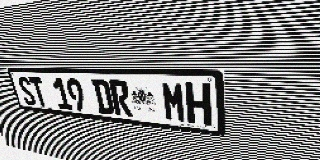1: (50, 78, 73, 110)
9: (65, 78, 88, 112)
D: (91, 79, 115, 115)
H: (185, 82, 211, 126)
M: (161, 81, 187, 123)
R: (109, 80, 133, 117)
S: (16, 77, 37, 106)
T: (28, 77, 49, 107)
